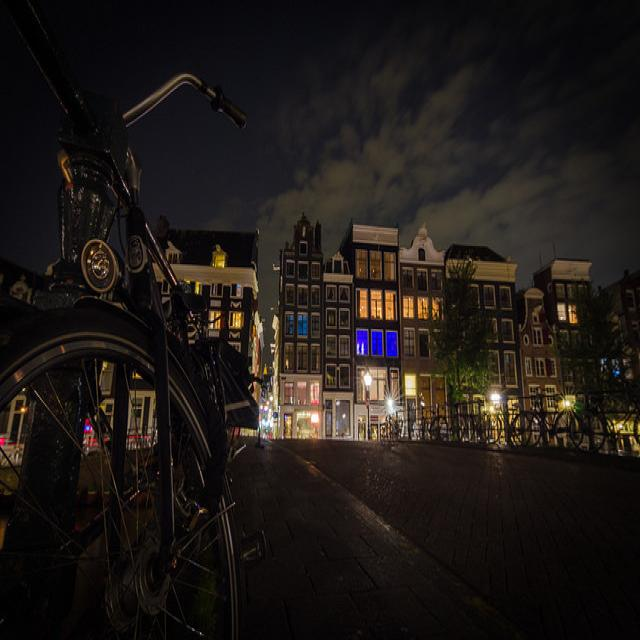Bicycle: (0, 59, 296, 640)
